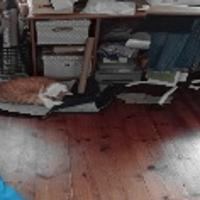asleep: (0, 76, 72, 106)
